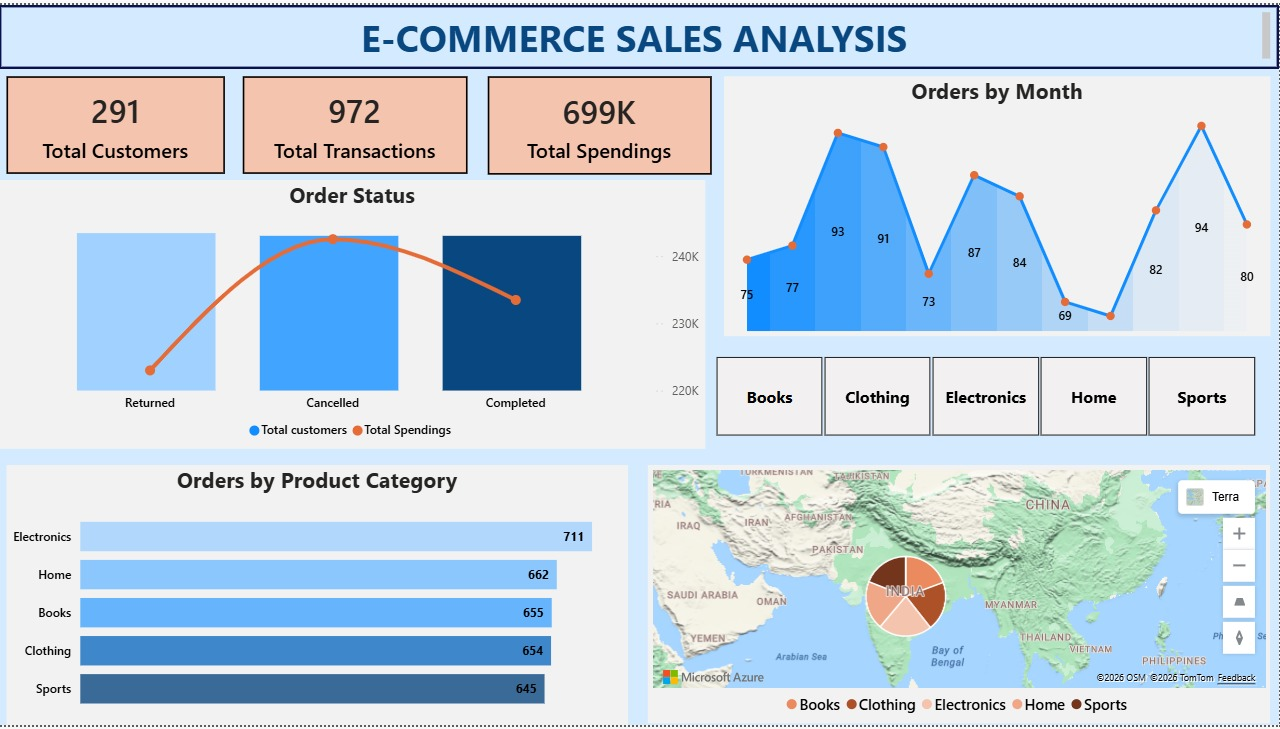

What the dashboard file says about the page in this screenshot:
{"tool":"powerbi","page":{"name":"Page 1","canvas":[1280,720],"ordinal":0},"visuals":[{"type":"card","fields":{"Values":["Count(dev_schema dim_customer.customer_id)"]},"box":[7.5,71.2,218.8,97.5],"z":0},{"type":"card","fields":{"Values":["CountNonNull(dev_schema fct_orders.transaction_id)"]},"box":[243.8,71.2,225,97.5],"z":1000},{"type":"card","fields":{"Values":["Sum(dev_schema fct_orders.total_amount)"]},"box":[488.8,71.2,223.8,98.8],"z":2000},{"type":"textbox","box":[0,0,1280,63.8],"z":3000},{"type":"lineStackedColumnComboChart","title":"Order Status","fields":{"Category":["dev_schema fct_orders.order_status"],"Y":["CountNonNull(dev_schema dim_customer.customer_id)"],"Y2":["Sum(dev_schema fct_orders.total_amount)"]},"box":[0,175,706.2,268.8],"z":4000},{"type":"azureMap","fields":{"Category":["dev_schema dim_customer.country"],"Size":["CountNonNull(dev_schema dim_products.product_category)"],"Series":["dev_schema dim_products.product_category"]},"box":[648.8,460,622.5,258.8],"z":5000},{"type":"barChart","title":"Orders by Product Category","fields":{"Category":["dev_schema dim_products.product_category"],"Y":["CountNonNull(dev_schema fct_orders.order_status)"]},"box":[7.5,460,621.2,260],"z":6000},{"type":"stackedAreaChart","title":"Orders by Month","fields":{"Category":["dev_schema fct_orders.order_date.Variation.Date Hierarchy.Month"],"Y":["CountNonNull(dev_schema fct_orders.order_status)"]},"box":[725,71.2,546.2,260],"z":7000},{"type":"slicer","fields":{"Values":["dev_schema dim_products.product_category"]},"box":[691.2,331.2,588.8,106.2],"z":8000}]}

Visuals, with their boxes in screenshot pixels (x1, y1, x2, y2), scaled from the page's 1280x720 canvas onto the 1280x729 screenshot:
card - Count(dev_schema dim_customer.customer_id): 8, 72, 226, 171
card - CountNonNull(dev_schema fct_orders.transaction_id): 244, 72, 469, 171
card - Sum(dev_schema fct_orders.total_amount): 489, 72, 713, 172
textbox: 0, 0, 1279, 65
"Order Status" lineStackedColumnComboChart: 0, 177, 706, 449
azureMap - dev_schema dim_customer.country x CountNonNull(dev_schema dim_products.product_category): 649, 466, 1271, 728
"Orders by Product Category" barChart: 8, 466, 629, 728
"Orders by Month" stackedAreaChart: 725, 72, 1271, 335
slicer - dev_schema dim_products.product_category: 691, 335, 1279, 443
